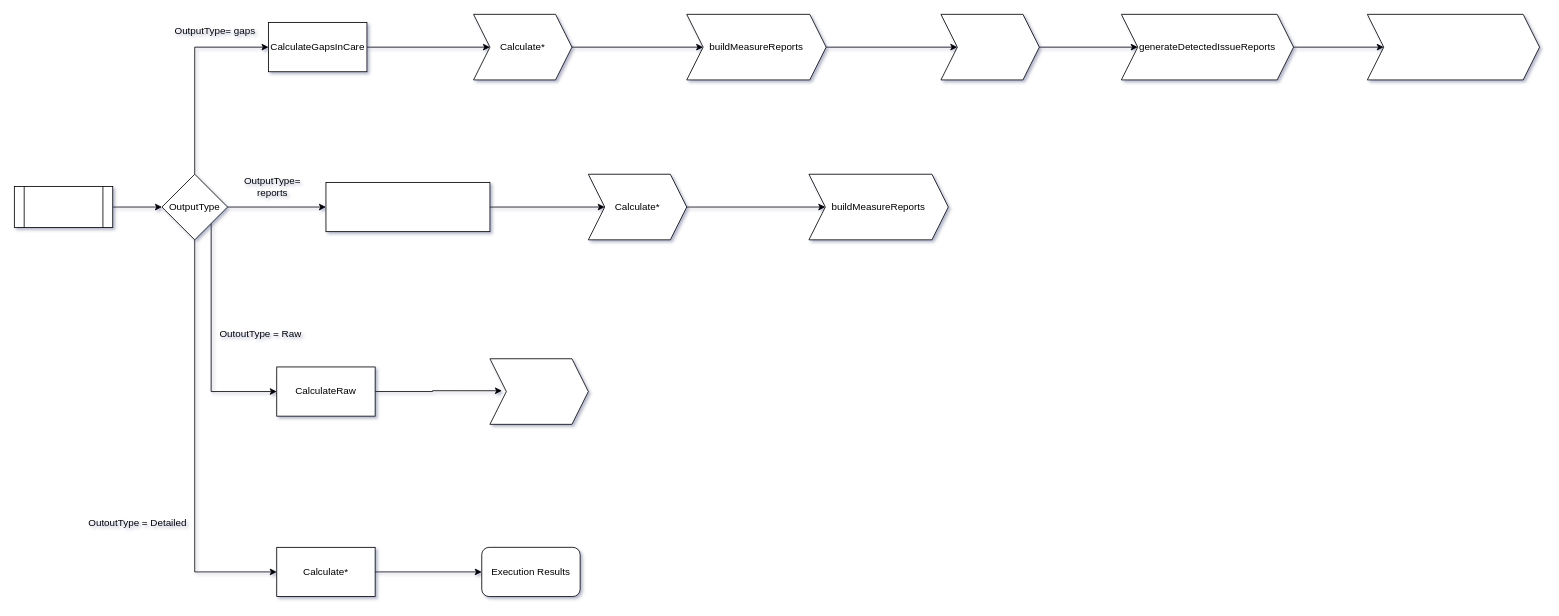
Image size: 1559x616. Some labels were removed from this diagram. The centre of each missing label's shape, as x and y in pixels:
"CalculateMeasureReports" belongs at [407,207].
"cli" belongs at [63,207].
"Execute()" belongs at [538,391].
"findRetrieves" belongs at [989,47].
"generateGapsInCareBundle" belongs at [1453,47].
